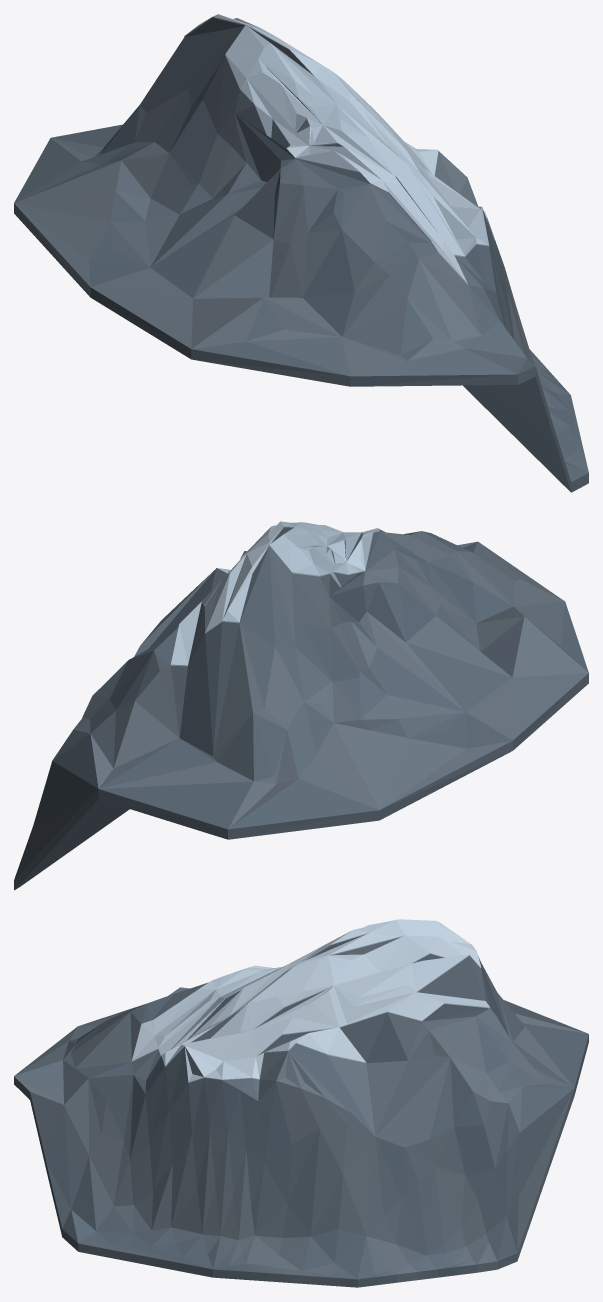
The model's file is massif_cirque_wall_cirque54v2.glb.
3 renders of one model, top to bottom at view 1: azimuth 30°, elevation 25°; view 2: azimuth 150°, elevation 25°; view 3: azimuth 270°, elevation 25°, orthographic. The views are drawn at different scales.
Visible parts, largest first — view 1: remodeled_cirque_body, snow_gully_b, snow_gully_a, upper_snow_basin; view 2: remodeled_cirque_body, snow_gully_b, snow_gully_a, upper_snow_basin; view 3: remodeled_cirque_body, snow_gully_a, snow_gully_b.
Boxes of the visible parts, x1,y1,x2,y2 form: remodeled_cirque_body: (14, 18, 588, 492); snow_gully_b: (225, 43, 476, 284); snow_gully_a: (184, 15, 494, 246); upper_snow_basin: (212, 14, 289, 57); remodeled_cirque_body: (14, 527, 588, 890); snow_gully_b: (280, 521, 385, 587); snow_gully_a: (170, 521, 301, 666); upper_snow_basin: (252, 527, 295, 573); remodeled_cirque_body: (14, 934, 588, 1287); snow_gully_a: (161, 919, 490, 1082); snow_gully_b: (131, 931, 350, 1061).
Size of the model in its own units: 454 by 346 by 651.
